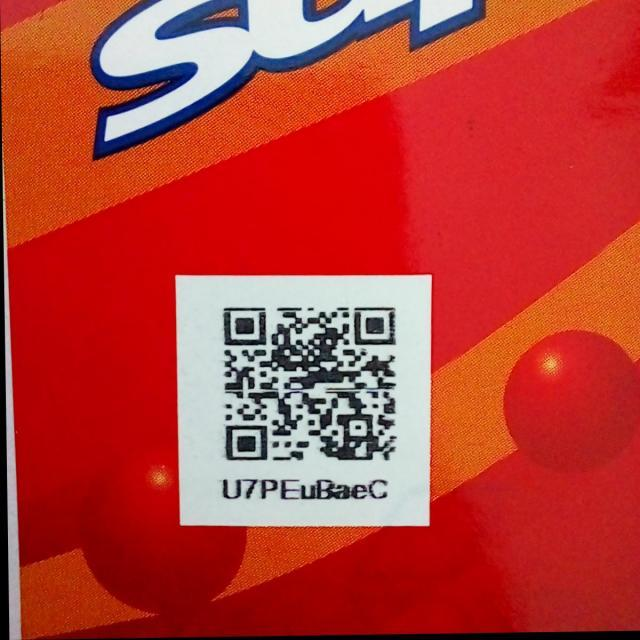QRCode: (211, 294, 405, 471)
